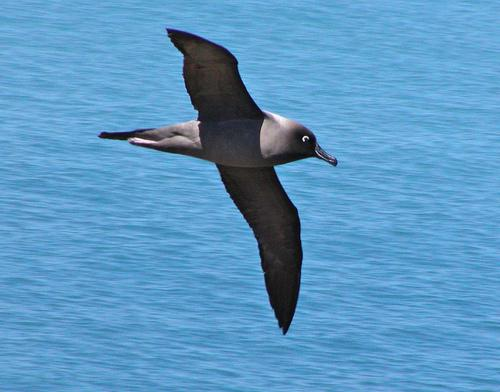003.Sooty_Albatross: (100, 29, 340, 336)
